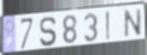3: (83, 11, 99, 44)
7: (20, 17, 35, 51)
8: (61, 14, 78, 46)
I: (105, 10, 111, 42)
N: (123, 7, 143, 39)
S: (38, 16, 58, 48)
